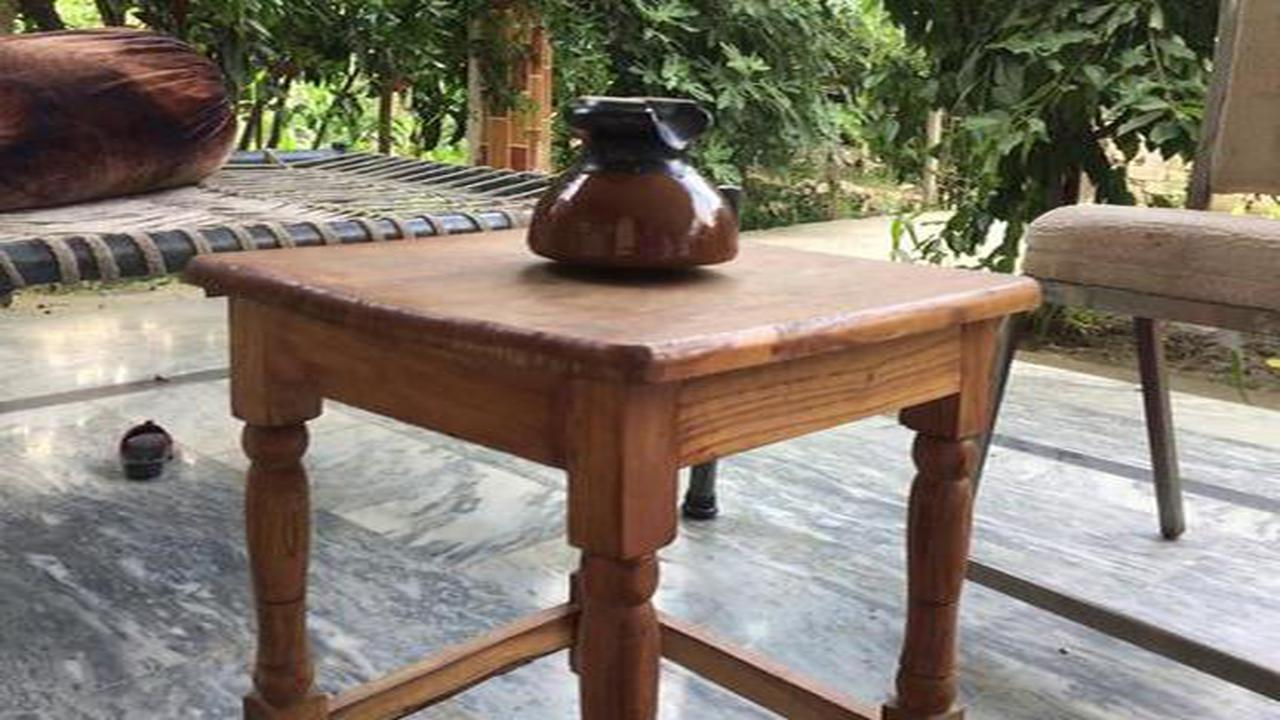insulator_pin: (493, 75, 767, 291)
